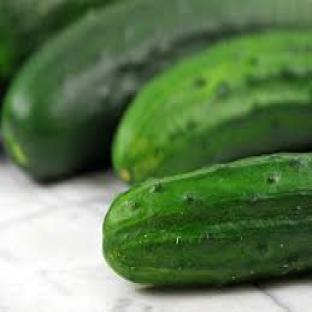Cucumber: (114, 29, 311, 181), (104, 155, 311, 284)
